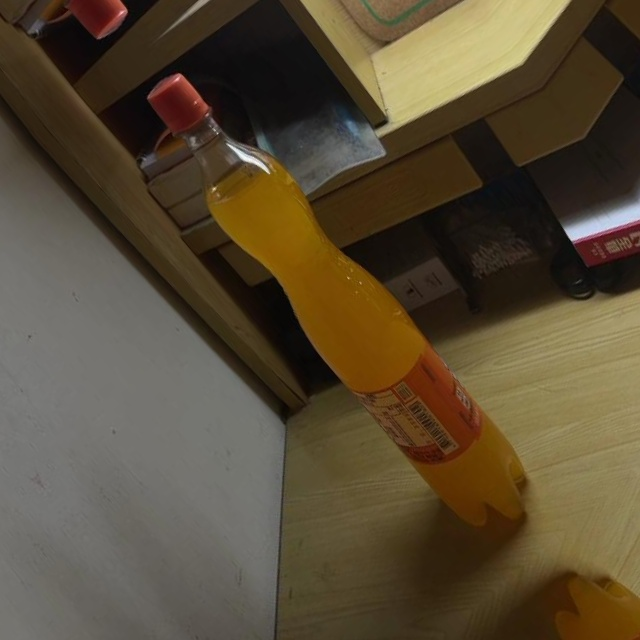Fanta: (117, 54, 556, 550)
